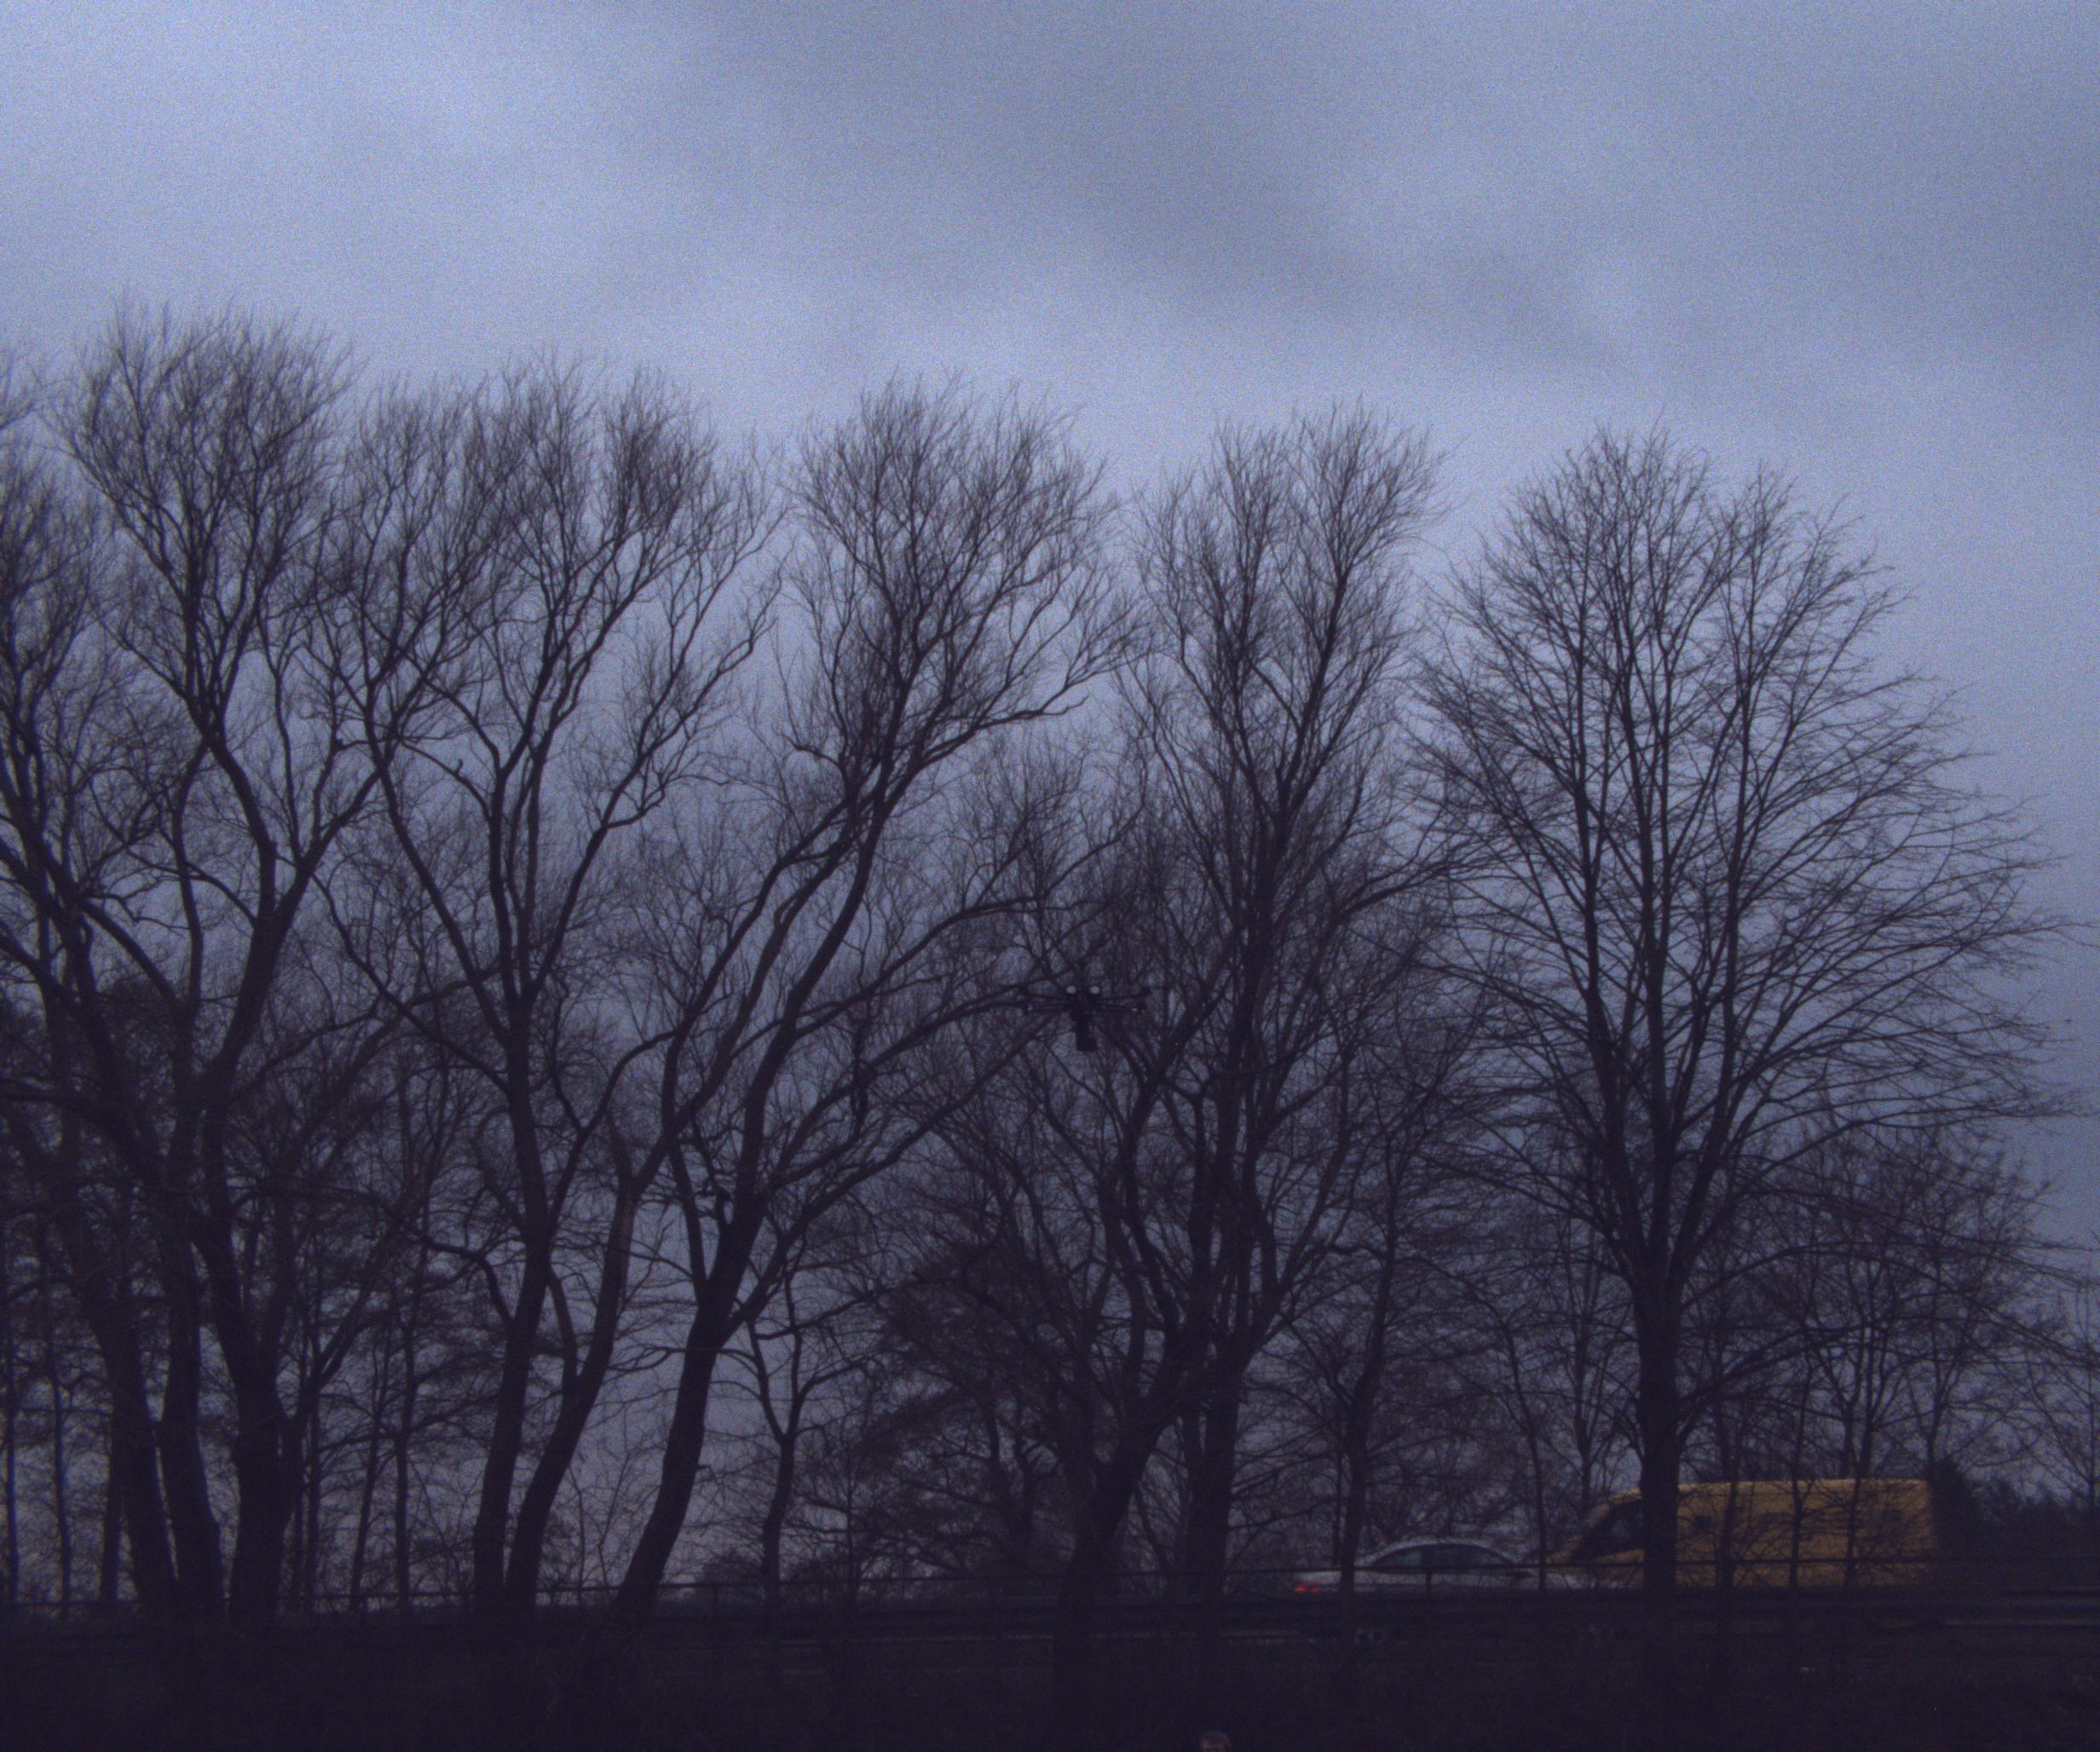Drohne: (944, 919, 1285, 1128)
